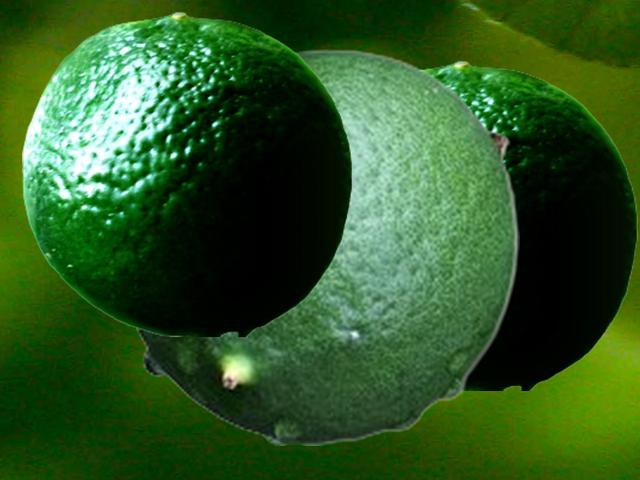calamansi: (131, 48, 518, 444), (22, 11, 351, 335), (419, 60, 636, 389)
